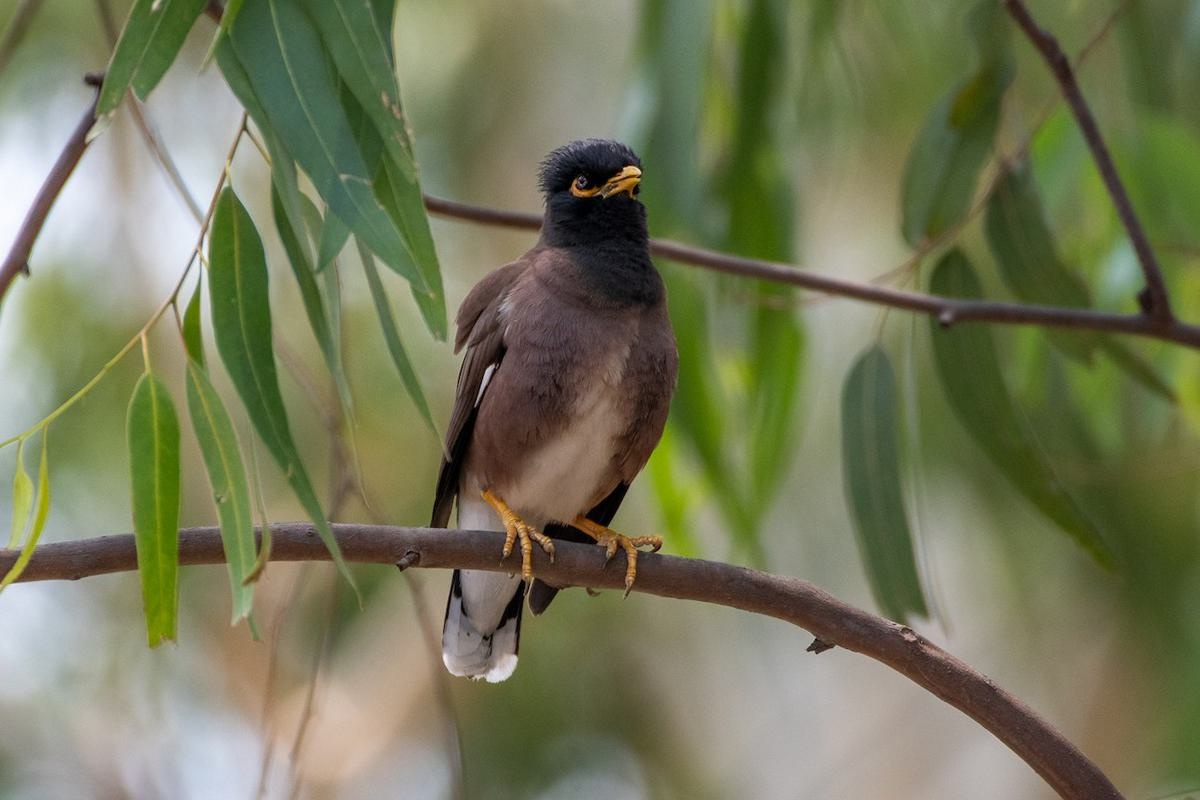myna: (429, 130, 674, 677)
